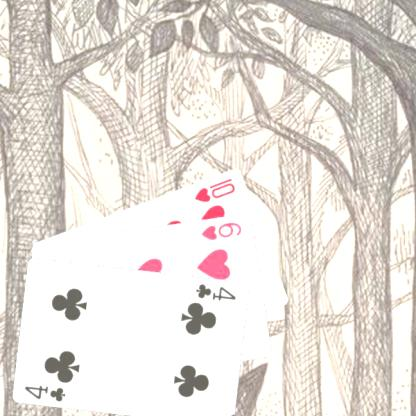10H: (192, 174, 237, 204)
4C: (193, 280, 238, 301), (22, 382, 67, 403)
6H: (198, 219, 244, 242)
